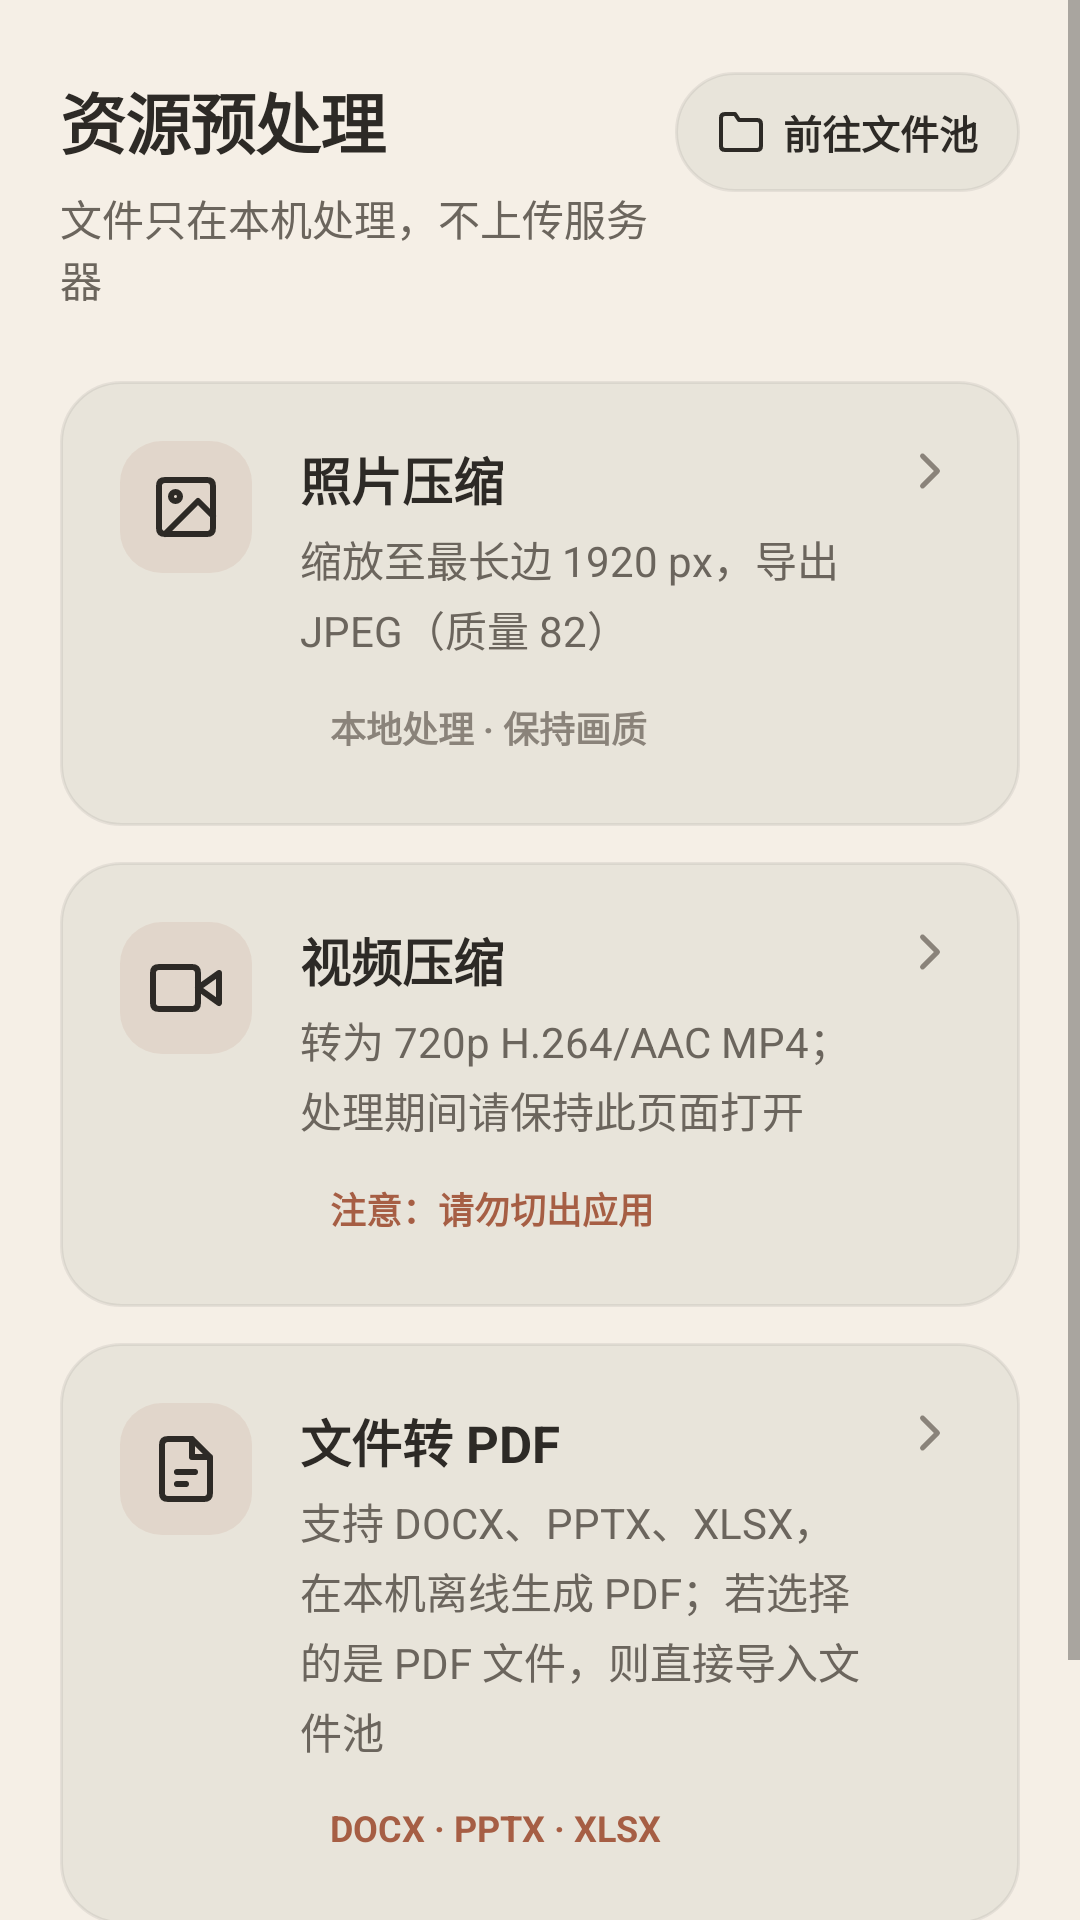

Icon bounding boxes for this 1080x1920 phone screenshot, format {"left": x1, "top": y1, "right": x2, "bottom": y2}:
document: {"left": 120, "top": 1403, "right": 252, "bottom": 1535}
folder: {"left": 719, "top": 112, "right": 763, "bottom": 152}
photo: {"left": 120, "top": 441, "right": 252, "bottom": 573}
video: {"left": 120, "top": 922, "right": 252, "bottom": 1054}
